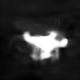plane: (21, 27, 69, 62)
